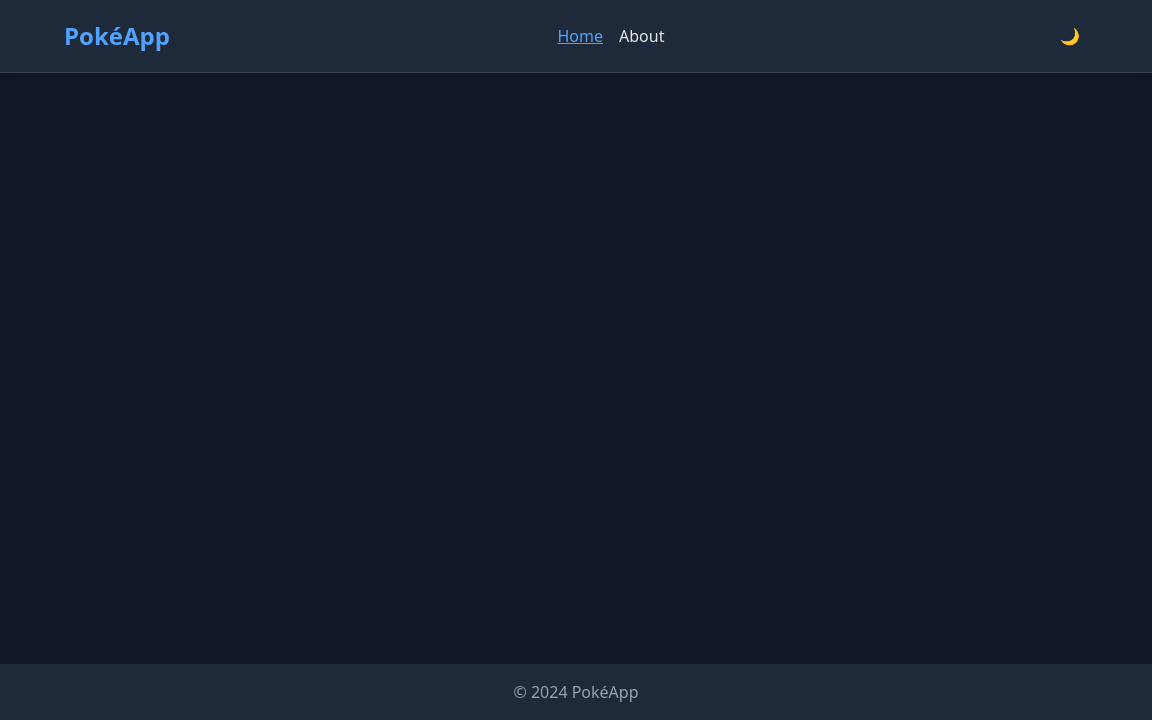
Test: MainLayout component › toggles the theme when the theme button is clicked
Click the button named "toggle theme" at (1070, 36), box 1052,16 -> 1088,56
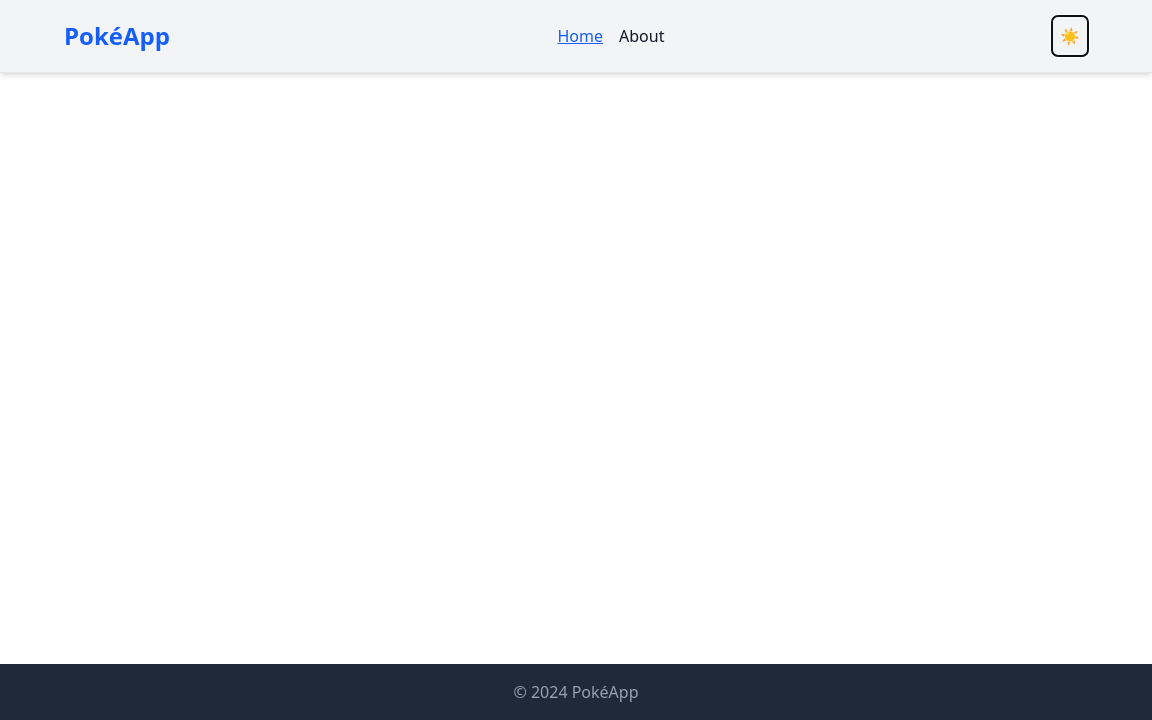
Expected: the button named "toggle theme" reads "☀️"
Click the button named "toggle theme" at (1070, 36), box 1052,16 -> 1088,56
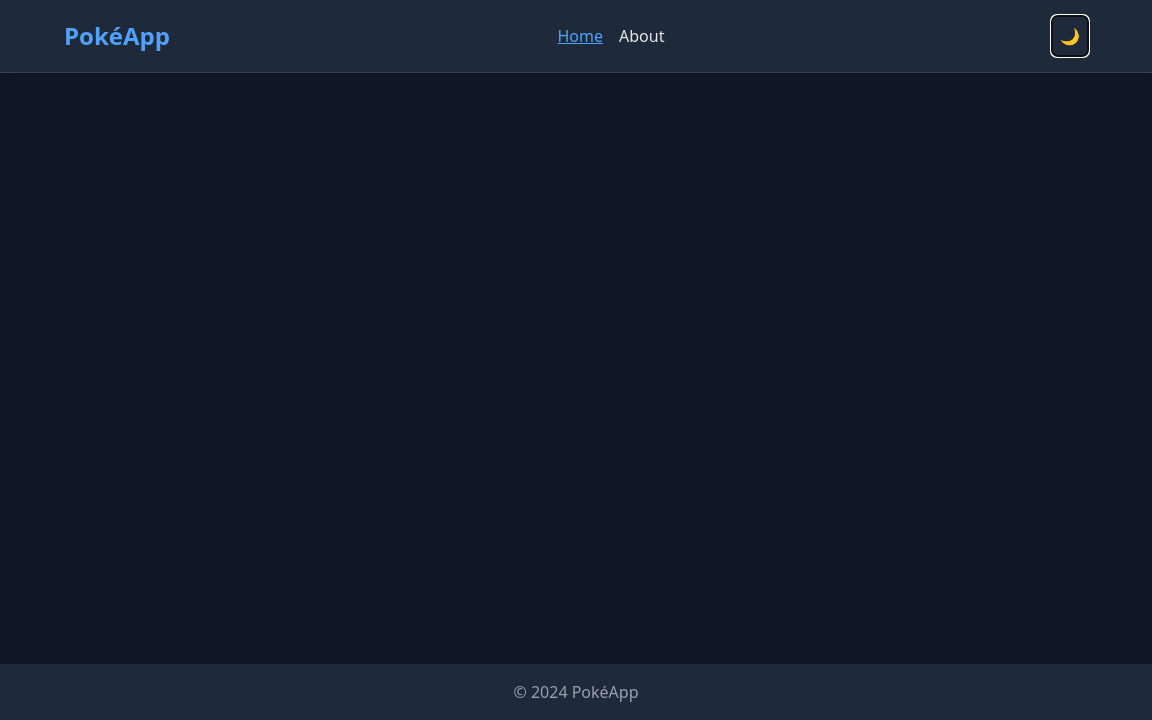
Expected: the button named "toggle theme" reads "🌙", 1052,16 -> 1088,56
